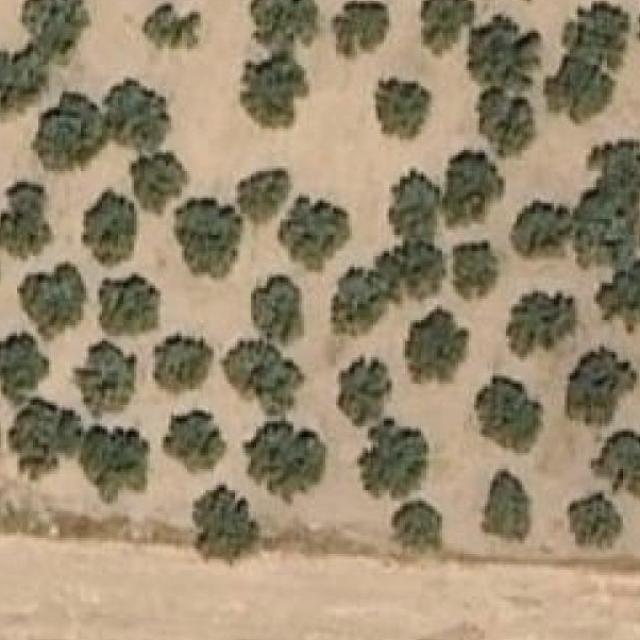Tree: (242, 419, 328, 507), (357, 418, 432, 501), (221, 338, 306, 410), (466, 10, 543, 89), (8, 400, 81, 482), (78, 426, 152, 504), (19, 260, 86, 344), (33, 91, 105, 169), (240, 54, 310, 134), (474, 376, 543, 456), (173, 198, 240, 280), (564, 347, 637, 421), (277, 198, 352, 270), (506, 288, 578, 361), (102, 78, 174, 150), (405, 304, 469, 382), (69, 343, 136, 416), (192, 485, 258, 557), (577, 192, 640, 267), (0, 181, 58, 261), (160, 410, 227, 478), (442, 152, 504, 224), (508, 200, 581, 261), (250, 274, 306, 347), (474, 90, 533, 158), (373, 78, 435, 142), (335, 355, 391, 424), (588, 428, 640, 501), (99, 272, 160, 334), (0, 331, 49, 405), (83, 196, 136, 264), (248, 0, 320, 50), (333, 1, 389, 65), (569, 6, 625, 70), (126, 153, 187, 210), (567, 490, 623, 552), (553, 54, 609, 116), (152, 336, 211, 394), (482, 467, 527, 541), (391, 174, 439, 243), (593, 254, 640, 321), (28, 0, 86, 54), (418, 0, 474, 54), (329, 276, 386, 328), (389, 248, 448, 298), (141, 4, 200, 52), (391, 498, 442, 552), (452, 240, 497, 299), (237, 168, 288, 219), (0, 48, 39, 105), (602, 139, 640, 190)
